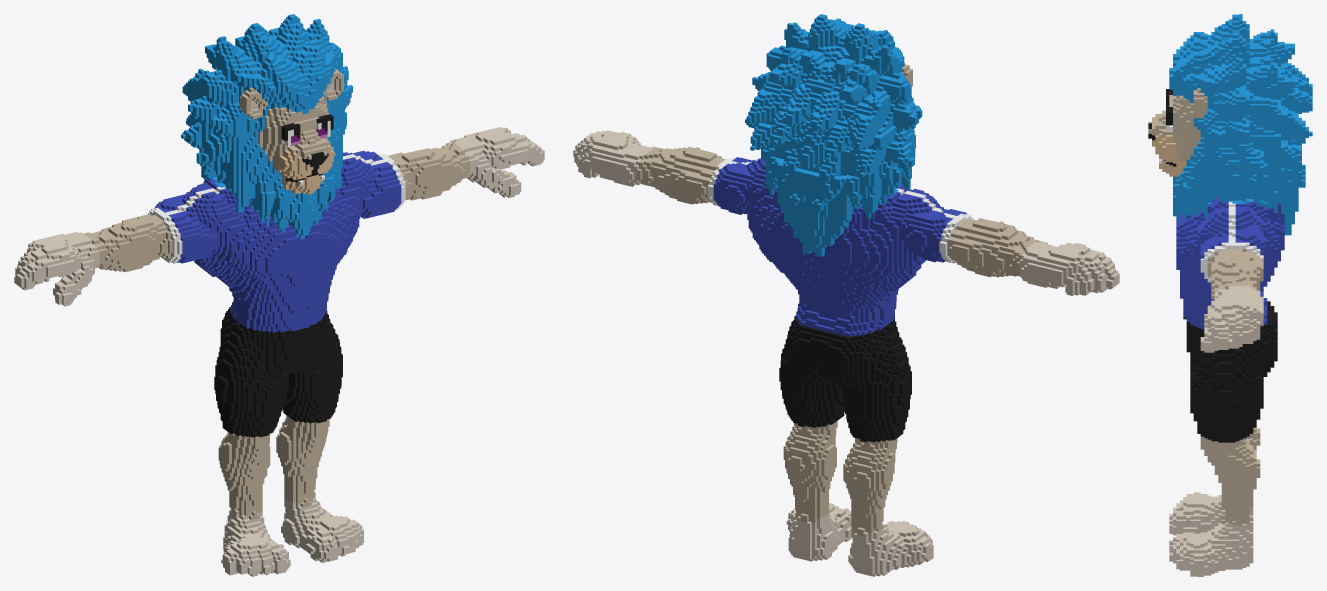
The model's file is 1053-DILJTvbL.glb.
3 views of the same model, side by side, from view 1: azimuth 30°, elevation 25°; view 2: azimuth 150°, elevation 25°; view 3: azimuth 270°, elevation 25° (orthographic). The views are drawn at different scales.
Visible parts, largest first — view 1: standard; view 2: standard; view 3: standard.
Boxes of the visible parts, bbox=[...] form: standard: bbox=[14, 14, 544, 576]; standard: bbox=[573, 14, 1119, 576]; standard: bbox=[1148, 14, 1312, 576].
Size of the model in its own units: 17.2 by 16.5 by 4.7.
5 materials, 5 textured.
